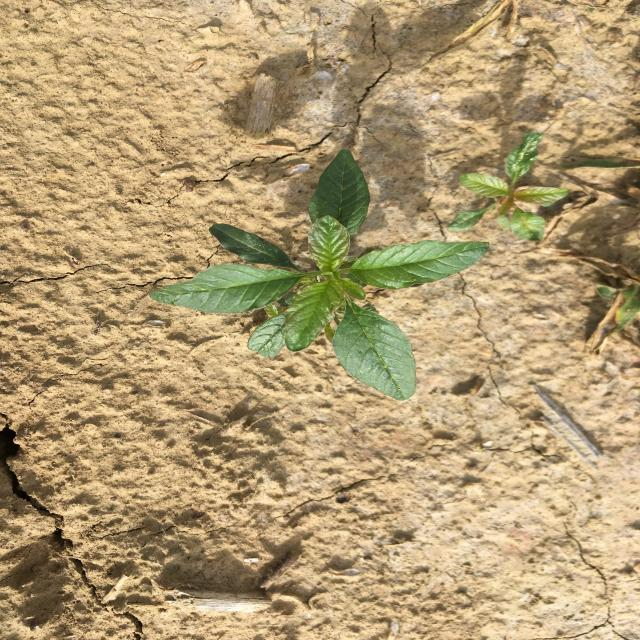Waterhemp: (149, 147, 491, 400), (448, 130, 569, 242)
